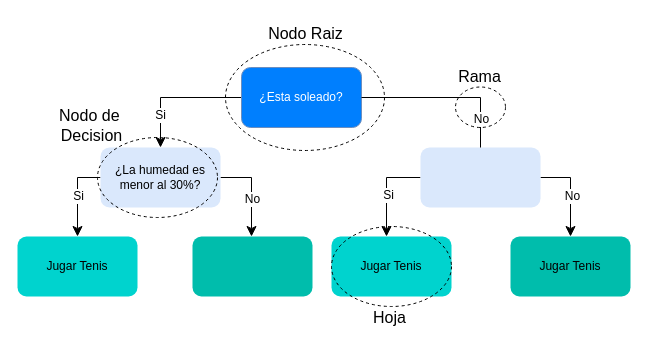
Some shapes in this 647 by 349 pixel diagram are drawn without their labels. Each missing label, with the centre of its shape:
No Jugar Tenis: pixel 252 266
¿Hay viento?: pixel 480 177
